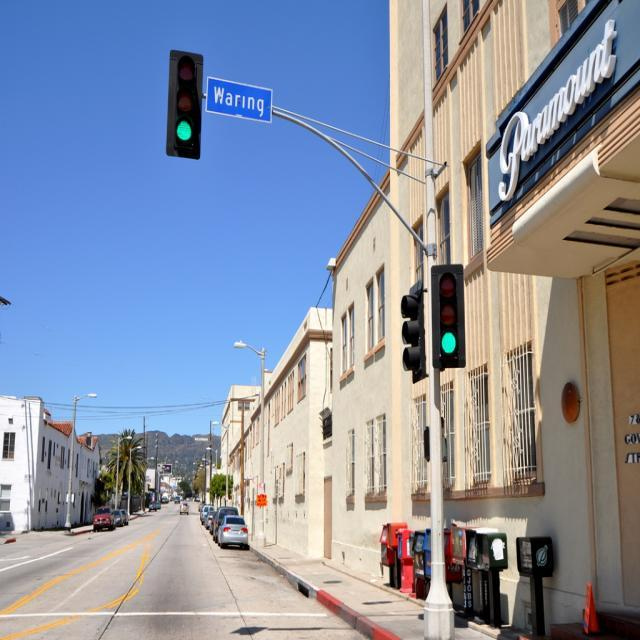off traffic light: (399, 286, 427, 377)
traffic light: (163, 45, 210, 160), (429, 265, 468, 368)
